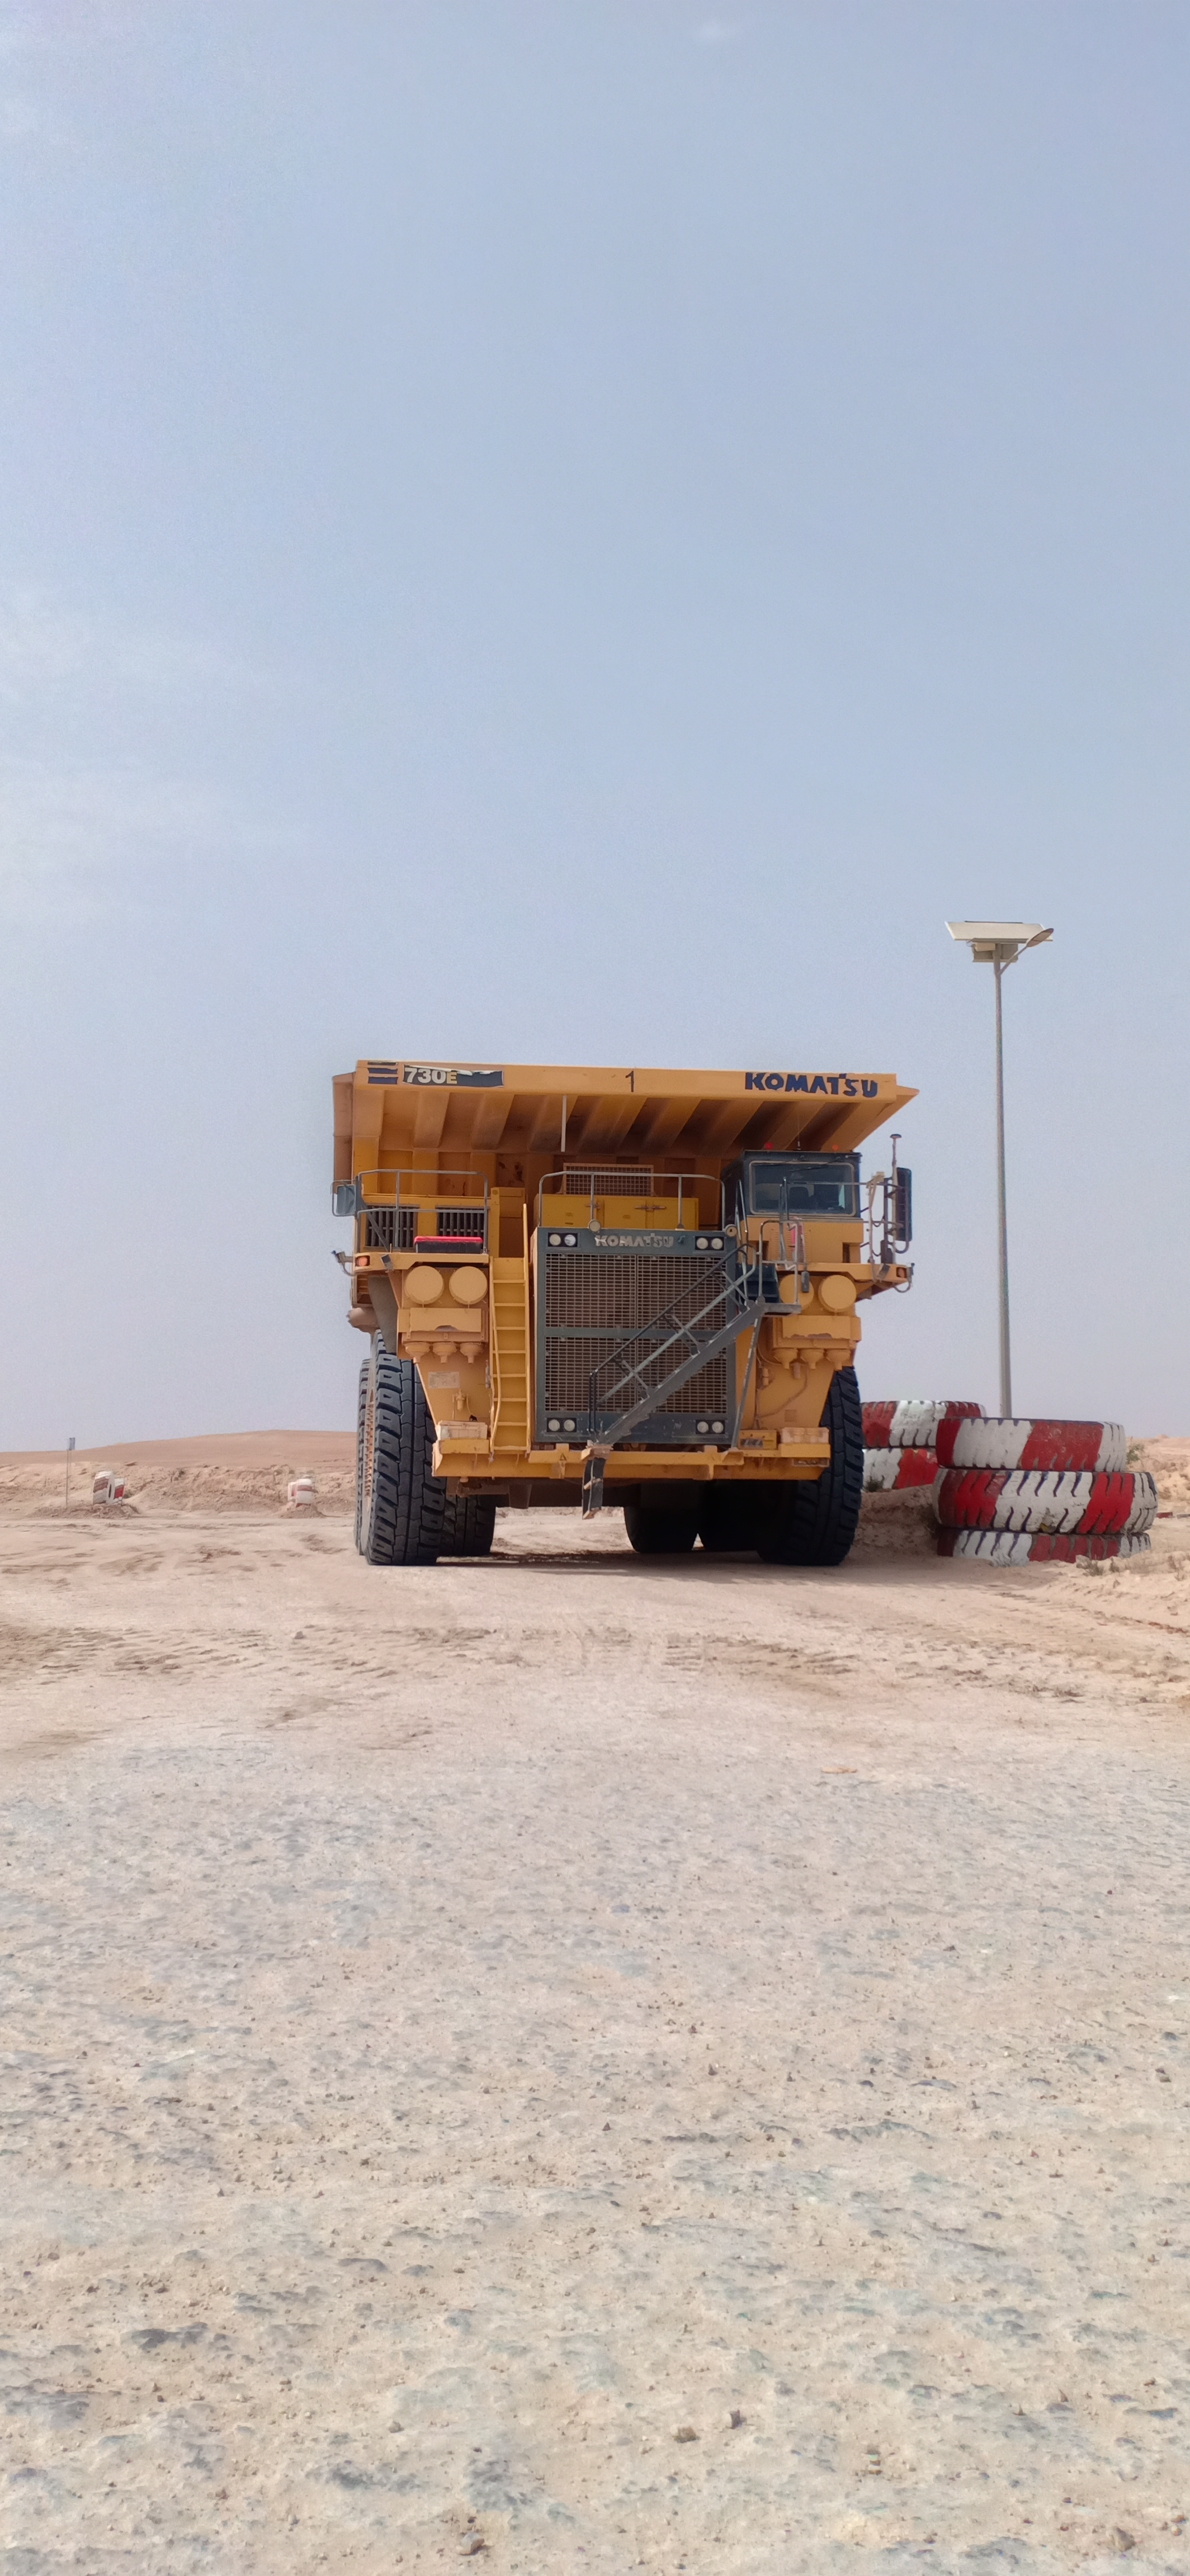camion: (273, 1042, 960, 1617)
